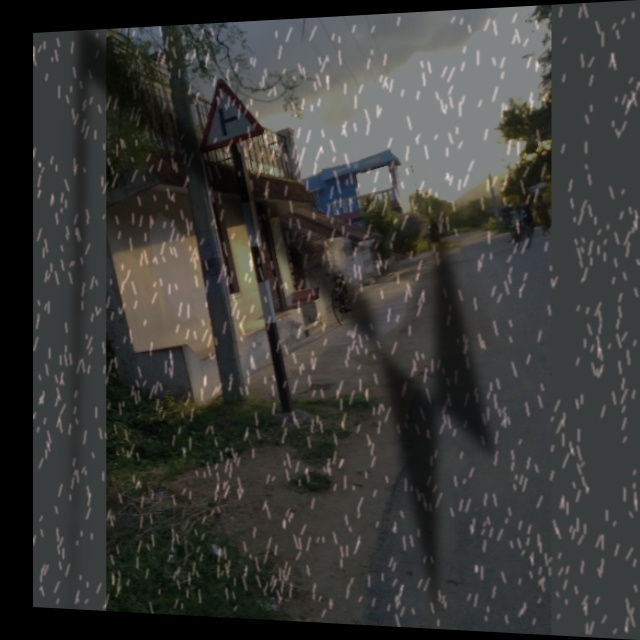Side_Road_Right: (195, 77, 274, 150)
